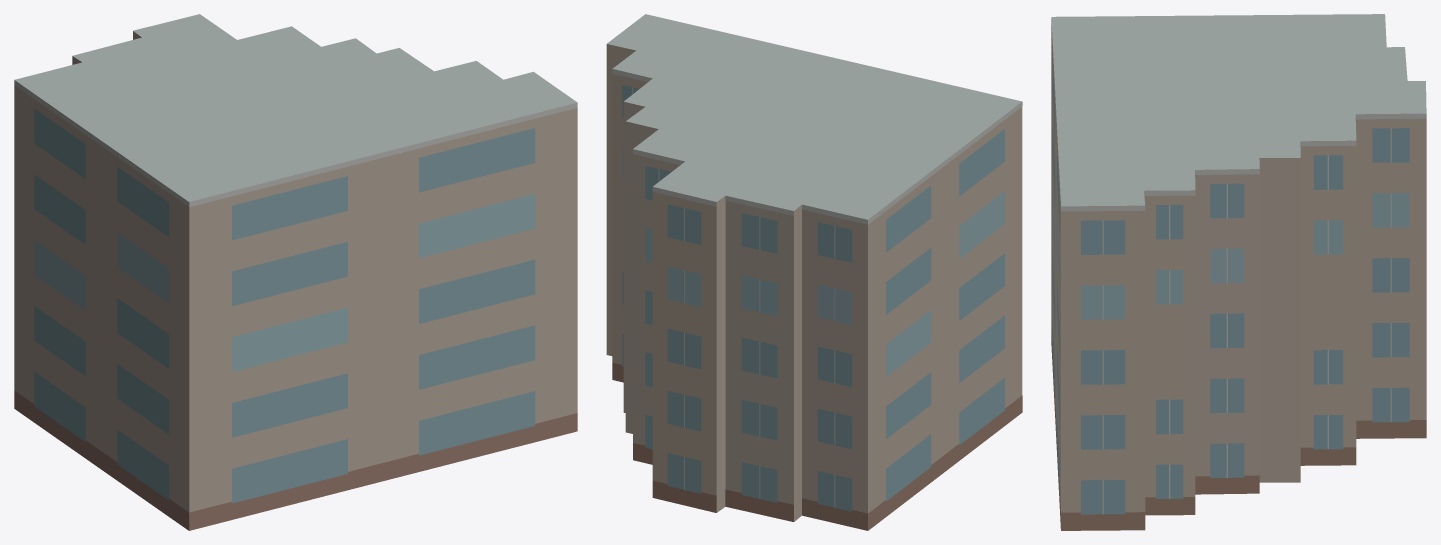
File: survey-upis-32984575.glb
3 renders of one model, left to right at view 1: azimuth 30°, elevation 25°; view 2: azimuth 150°, elevation 25°; view 3: azimuth 270°, elevation 25°, orthographic. The views are drawn at different scales.
Visible parts, largest first — view 1: survey-upis-32984575.tmp; view 2: survey-upis-32984575.tmp; view 3: survey-upis-32984575.tmp.
Boxes of the visible parts, bbox=[...] form: survey-upis-32984575.tmp: bbox=[14, 14, 577, 530]; survey-upis-32984575.tmp: bbox=[606, 14, 1022, 530]; survey-upis-32984575.tmp: bbox=[1051, 14, 1426, 530].
Bounding box in the file's own units: 19.58 × 15.4 × 16.15.
